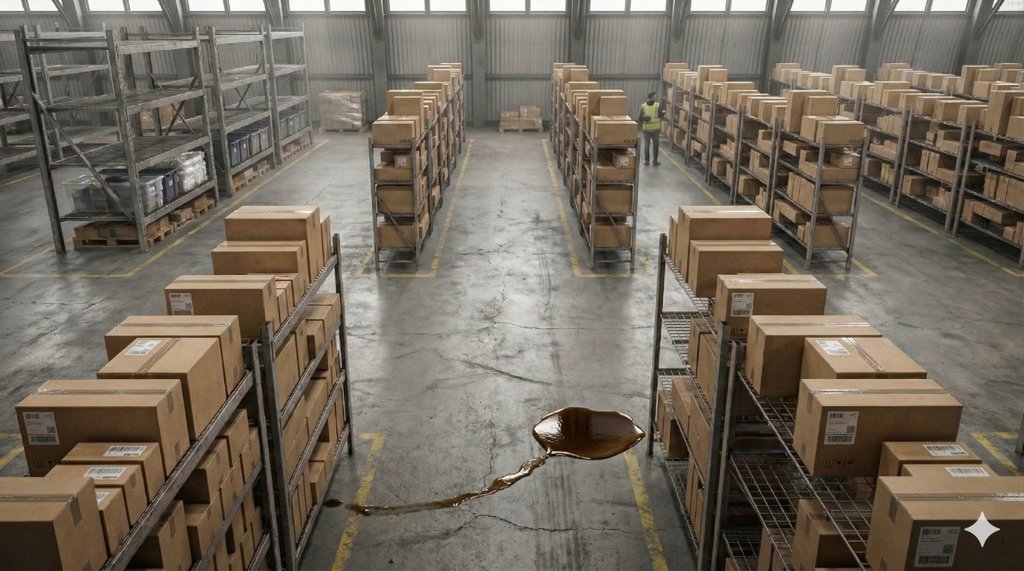empty_shelf: (3, 21, 215, 154), (212, 17, 313, 122)
person: (642, 95, 684, 176)
safety_vest: (642, 103, 660, 132)
spill: (454, 321, 650, 518)
